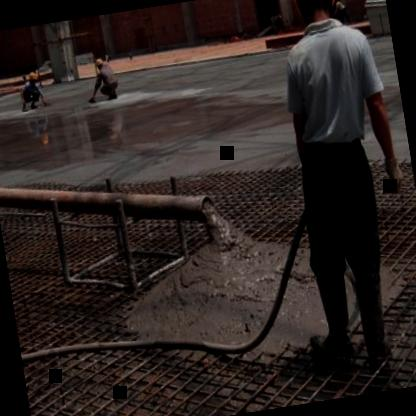helmet: (289, 0, 346, 33), (26, 66, 38, 86), (95, 52, 106, 73)
